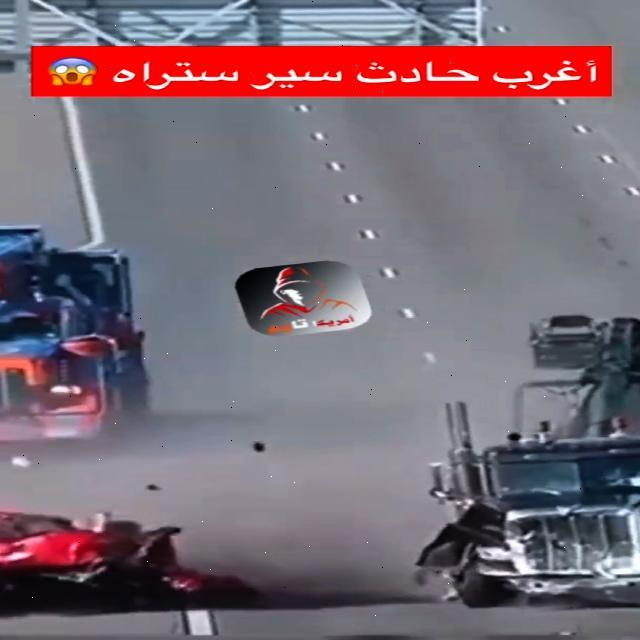accident: (418, 278, 639, 640), (0, 502, 261, 622)
non_accident: (0, 237, 150, 463)
